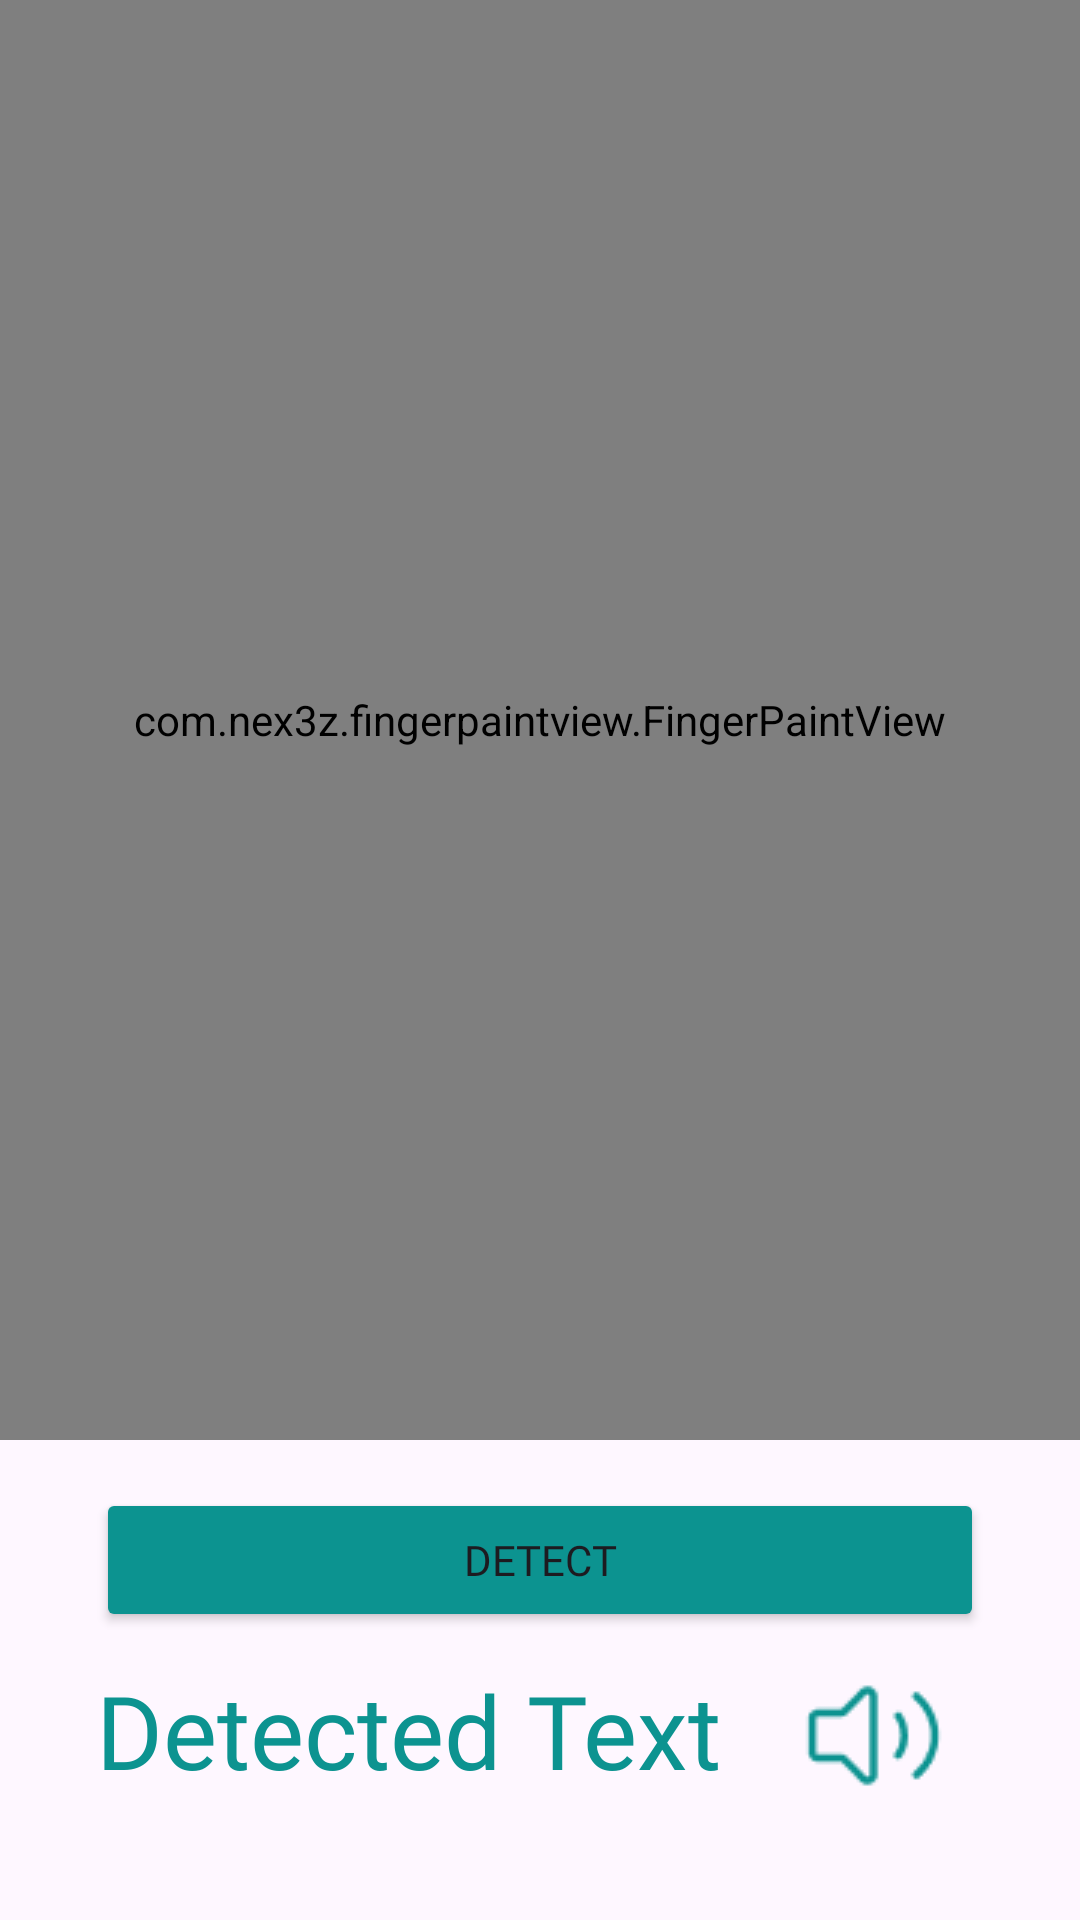

Where to tap for icons on this 1080x1920 app screen, as (x=x, y=y):
speaker: (x=873, y=1735)
